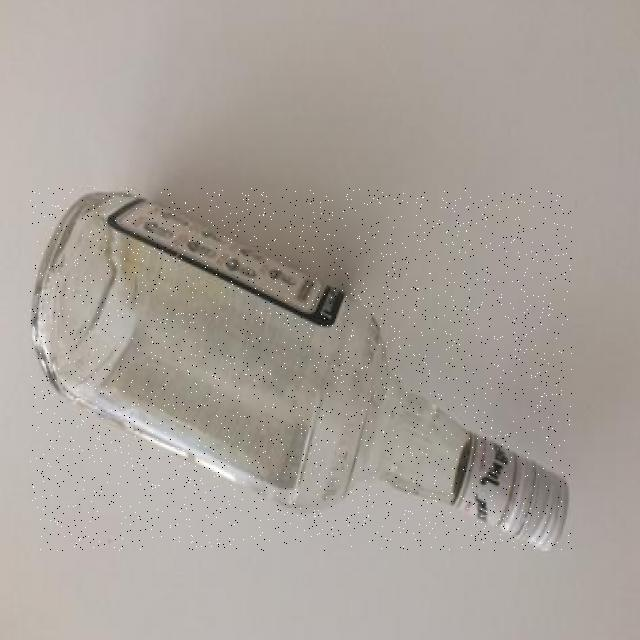glass: (30, 188, 572, 550)
